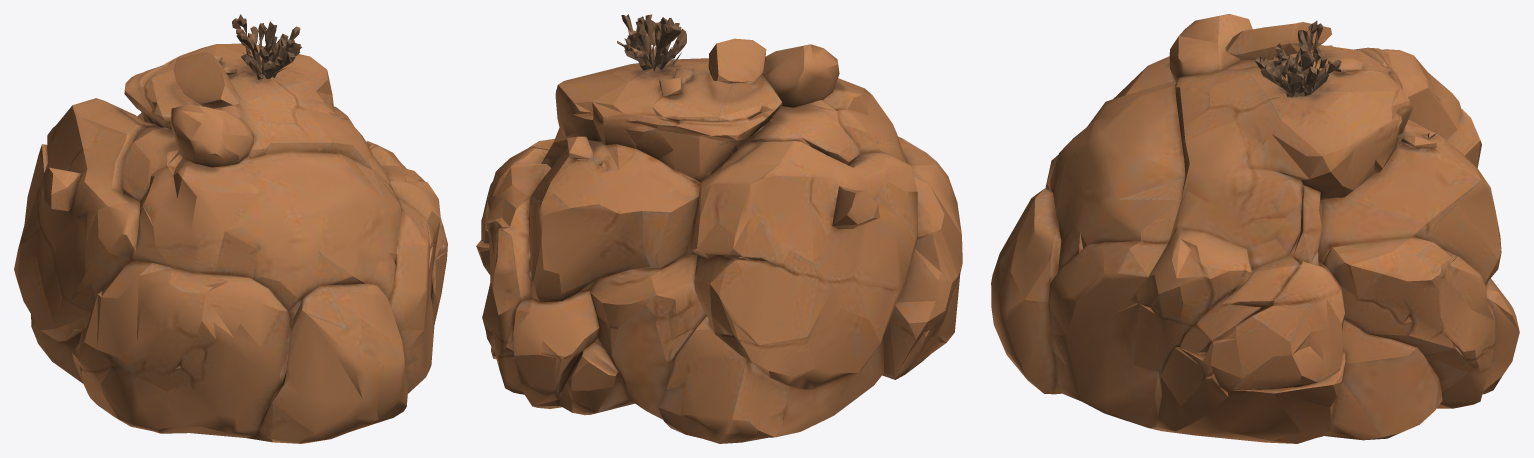
The model's file is cliffB.glb.
3 views of the same model, side by side, from view 1: azimuth 30°, elevation 25°; view 2: azimuth 150°, elevation 25°; view 3: azimuth 270°, elevation 25° (orthographic). The views are drawn at different scales.
Visible parts, largest first — view 1: output_unwrapped; view 2: output_unwrapped; view 3: output_unwrapped.
Boxes of the visible parts, <box> form: output_unwrapped: <box>14,14,447,443</box>; output_unwrapped: <box>476,14,962,443</box>; output_unwrapped: <box>991,14,1519,443</box>.
Size of the model in its own units: 1.78 by 1.39 by 1.9.
1 material, 1 textured.
